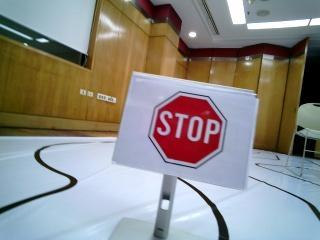stop: (125, 75, 240, 175)
